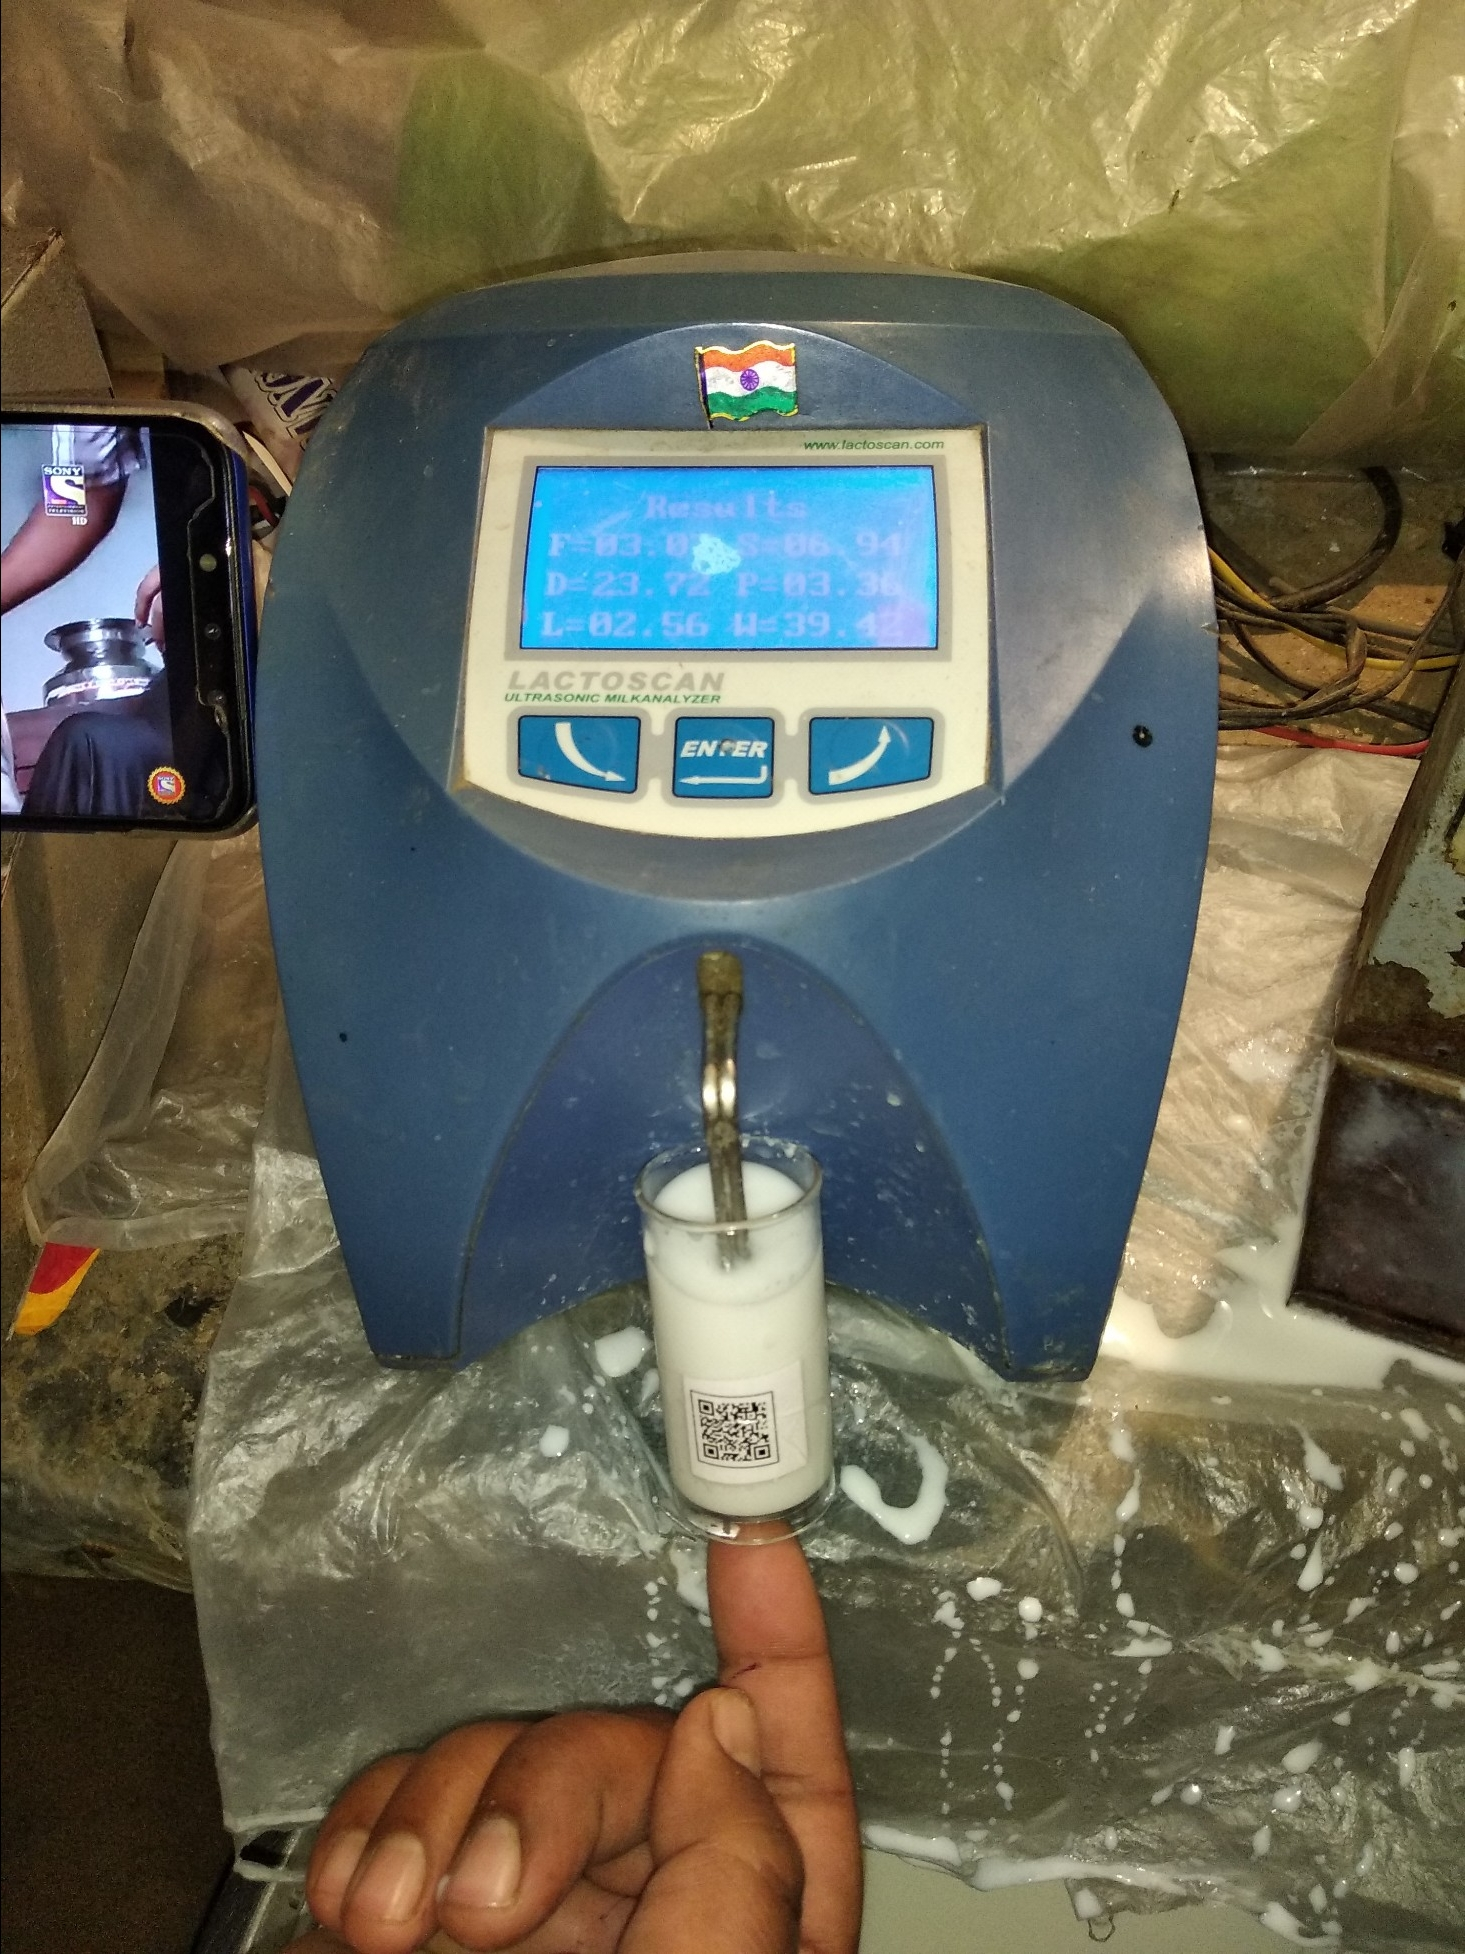lcd: (512, 452, 973, 679)
qr: (669, 1366, 797, 1482)
